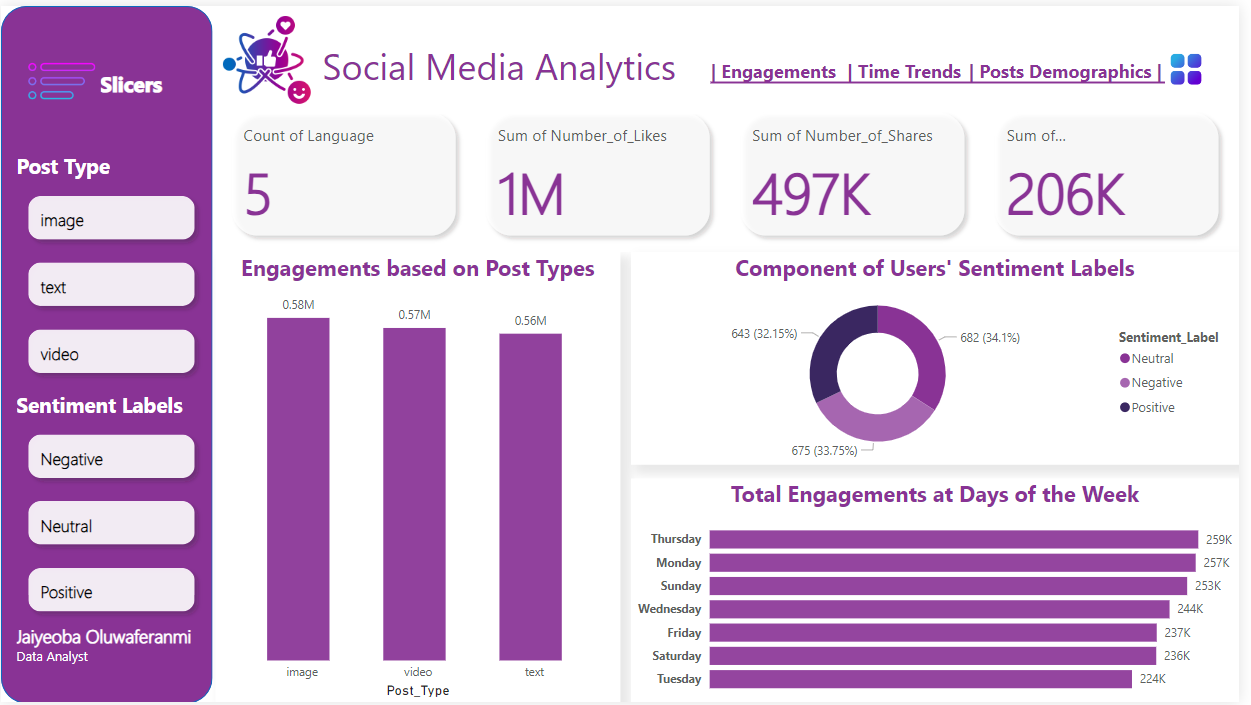

This screenshot's page, from the dashboard's own definition file:
{"tool":"powerbi","page":{"name":"Engagements","canvas":[1280,720],"ordinal":0},"visuals":[{"type":"clusteredColumnChart","title":"Engagements based on Post Types","fields":{"Category":["BrainWave SocialMediaSentiments.Post_Type"],"Y":["Sum(BrainWave SocialMediaSentiments.Total Engagements)"]},"box":[221.7,255,418.3,465],"z":0},{"type":"cardVisual","fields":{"Data":["Count(BrainWave SocialMediaSentiments.Language)","Sum(BrainWave SocialMediaSentiments.Number_of_Likes)","Sum(BrainWave SocialMediaSentiments.Number_of_Shares)","Sum(BrainWave SocialMediaSentiments.Number_of_Comments)"]},"box":[222,93.5,1057.4,161.6],"z":1000},{"type":"shape","box":[0,0,218.7,721.2],"z":2000},{"type":"textbox","box":[327.2,31,418.7,80.6],"z":3000},{"type":"donutChart","title":"Component of Users'' Sentiment Labels","fields":{"Category":["BrainWave SocialMediaSentiments.Sentiment_Label"],"Y":["CountNonNull(BrainWave SocialMediaSentiments.Post_ID)"]},"box":[651.7,255,628.3,220],"z":4000},{"type":"clusteredBarChart","title":"Total Engagements at Days of the Week","fields":{"Category":["BrainWave SocialMediaSentiments.DayOfWeek"],"Y":["Sum(BrainWave SocialMediaSentiments.Total Engagements)"]},"box":[651.7,488.3,628.3,231.7],"z":5000},{"type":"advancedSlicerVisual","title":"Post Type","fields":{"Values":["BrainWave SocialMediaSentiments.Post_Type"]},"box":[10.9,150.4,206.3,246.6],"z":6000},{"type":"advancedSlicerVisual","title":"Sentiment Labels","fields":{"Values":["BrainWave SocialMediaSentiments.Sentiment_Label"]},"box":[10.9,397,206.3,246.6],"z":7000},{"type":"image","box":[221.8,0,105.5,111.7],"z":8000},{"type":"textbox","box":[10.9,632.8,206.3,66.7],"z":9000},{"type":"image","box":[10.9,31,103.9,93.1],"z":10000},{"type":"textbox","box":[97.7,60.5,91.5,51.2],"z":11000},{"type":"actionButton","title":"| Engagements","box":[733.6,54.3,133.4,32.6],"z":12000},{"type":"actionButton","title":"| Time Trends","box":[866.9,54.3,133.4,32.6],"z":13000},{"type":"actionButton","title":"| Posts Demographics |","box":[1000.3,54.3,203.2,32.6],"z":14000},{"type":"shape","box":[733.6,71.3,469.9,15.5],"z":15000},{"type":"image","box":[1202.3,43.9,46.9,43.9],"z":16000}]}

Visuals, with their boxes in screenshot pixels (x1, y1, x2, y2), scaled from the page's 1280x720 canvas onto the 1251x705 screenshot:
"Engagements based on Post Types" clusteredColumnChart: 217:250:626:704
cardVisual - Count(BrainWave SocialMediaSentiments.Language) x Sum(BrainWave SocialMediaSentiments.Number_of_Likes): 217:92:1250:250
shape: 0:0:214:704
textbox: 320:30:729:109
"Component of Users'' Sentiment Labels" donutChart: 637:250:1250:465
"Total Engagements at Days of the Week" clusteredBarChart: 637:478:1250:704
"Post Type" advancedSlicerVisual: 11:147:212:389
"Sentiment Labels" advancedSlicerVisual: 11:389:212:630
image: 217:0:320:109
textbox: 11:620:212:685
image: 11:30:112:122
textbox: 95:59:185:109
"| Engagements" actionButton: 717:53:847:85
"| Time Trends" actionButton: 847:53:978:85
"| Posts Demographics |" actionButton: 978:53:1176:85
shape: 717:70:1176:85
image: 1175:43:1221:86
